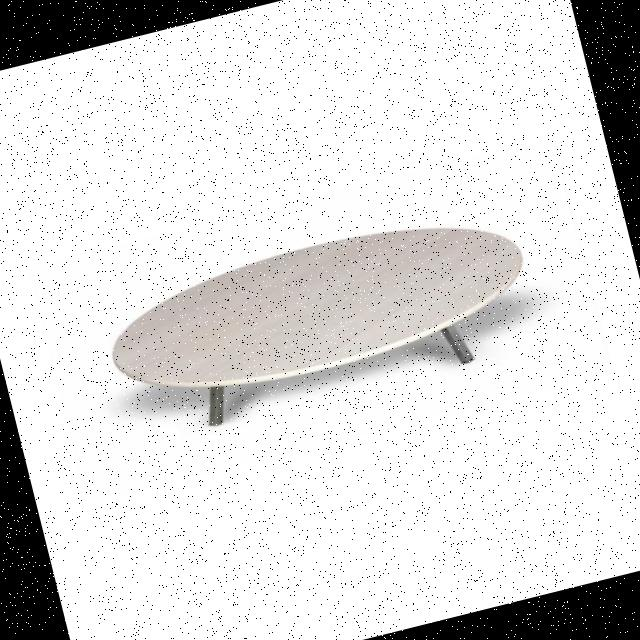Table: (59, 167, 586, 482)
